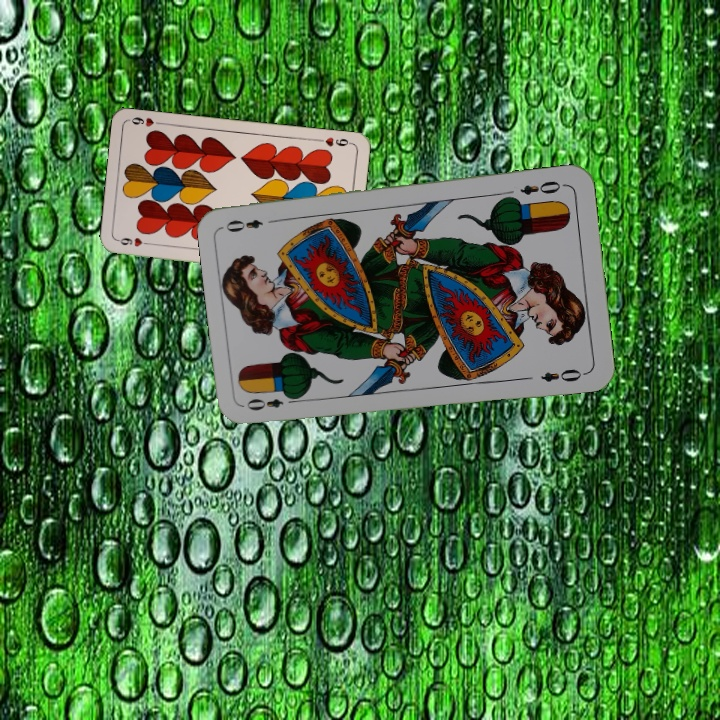EO: (242, 390, 301, 413), (516, 176, 568, 197)
H9: (314, 133, 354, 149), (114, 234, 154, 249)
